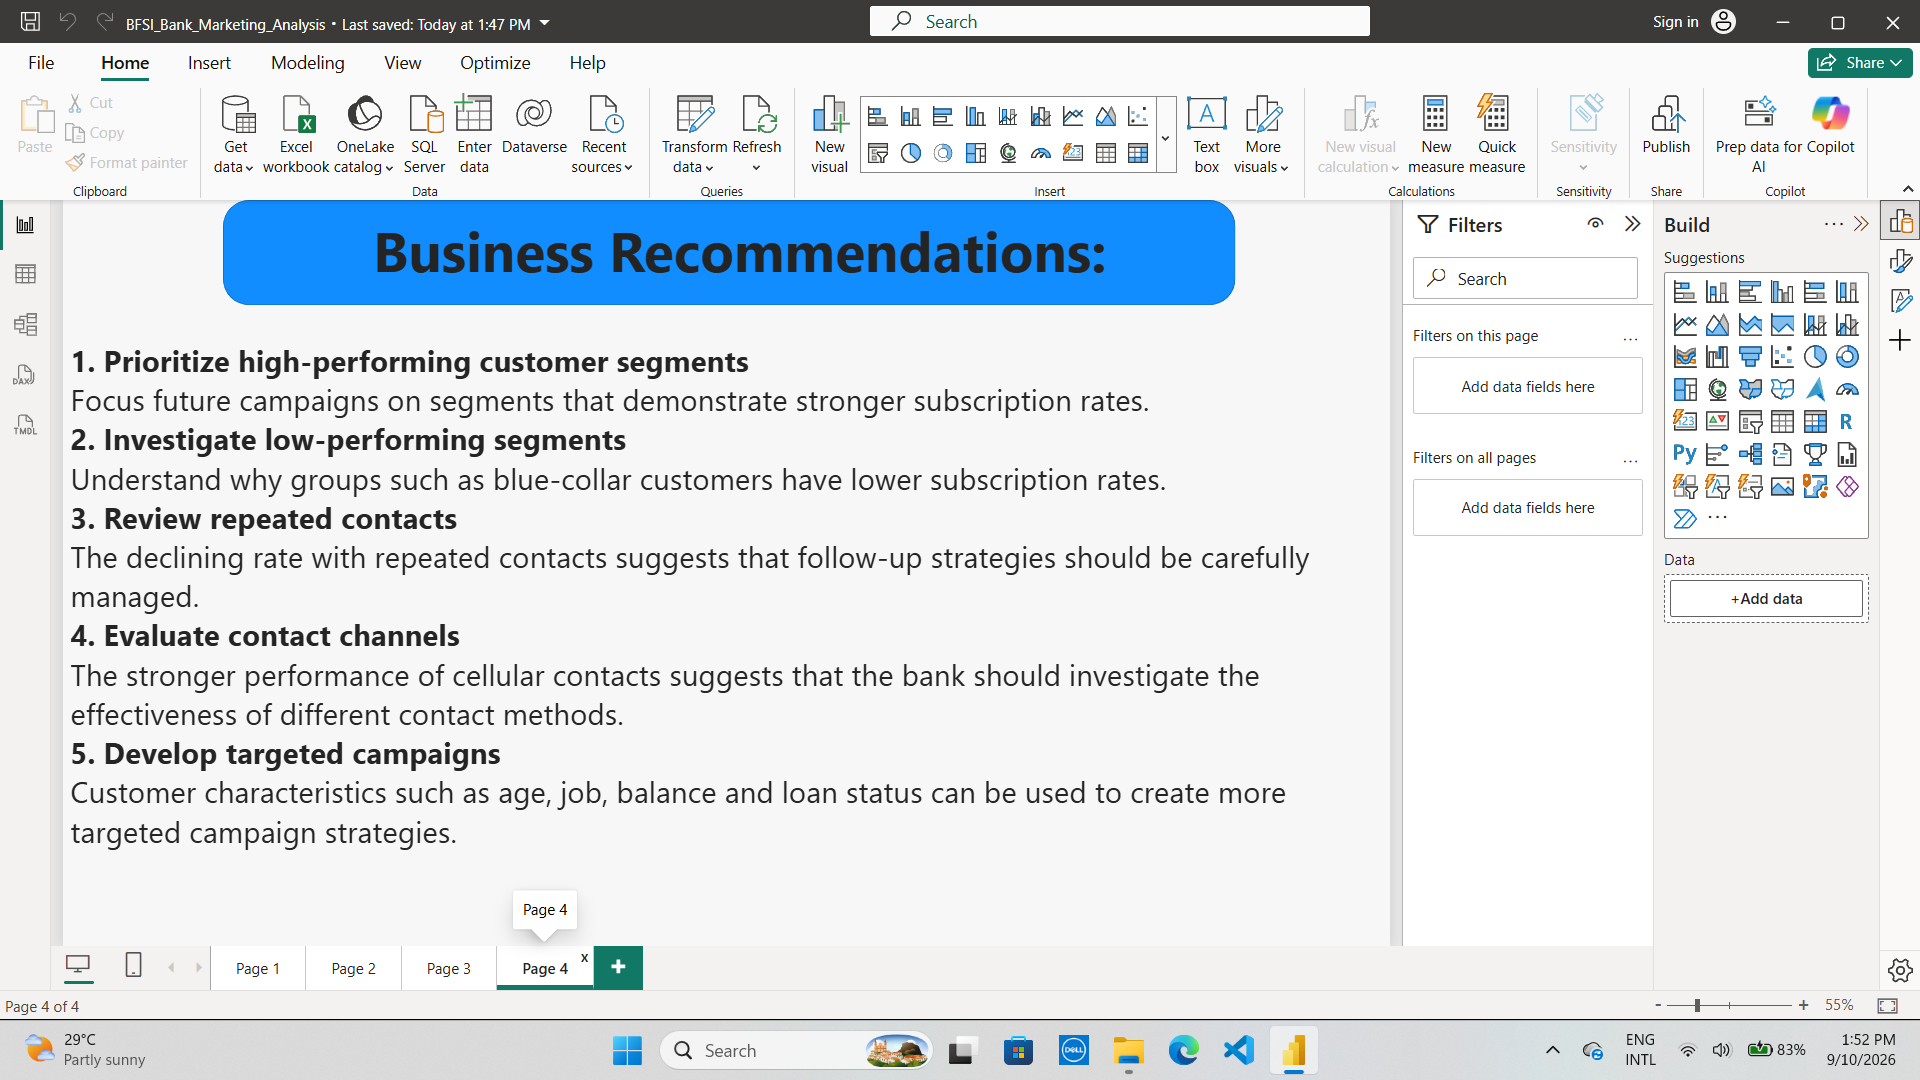

This screenshot's page, from the dashboard's own definition file:
{"tool":"powerbi","page":{"name":"Page 4","canvas":[1920,1080],"ordinal":3},"visuals":[{"type":"textbox","box":[10.7,0,1908.8,1081.2],"z":0},{"type":"shape","box":[232.3,0,1465.7,152.2],"z":1},{"type":"textbox","box":[448.5,18.7,1166.6,133.5],"z":2}]}

Visuals, with their boxes on the page's 1920x1080 design canvas (x1, y1, x2, y2). These are canvas units, not pixel positions in the 1920x1080 screenshot, which may show the page scaled, cropped or inside an application window:
textbox: 11, 0, 1920, 1081
shape: 232, 0, 1698, 152
textbox: 448, 19, 1615, 152
